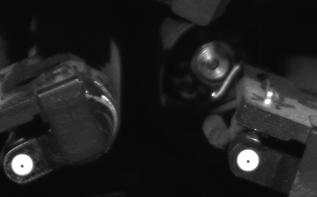fiber: (233, 147, 265, 175), (10, 150, 36, 180)
